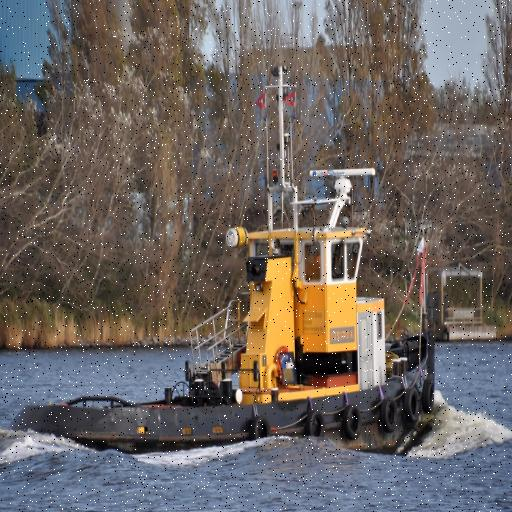tugboat: (7, 64, 445, 473)
